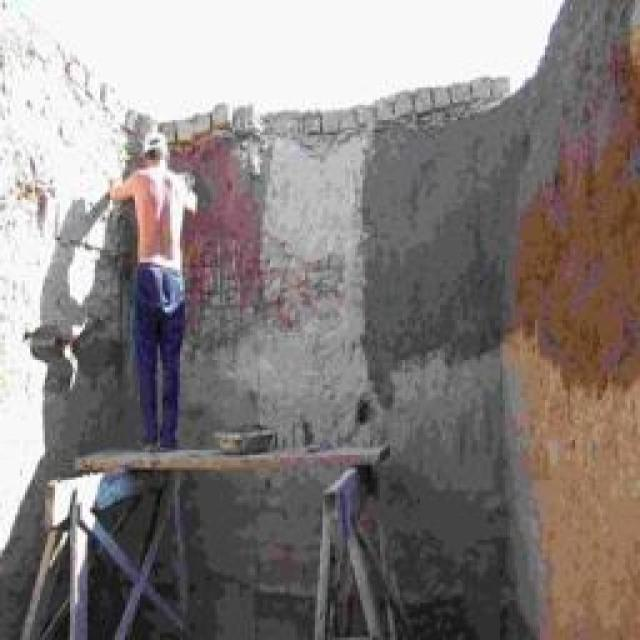Helmet: (76, 156, 214, 306), (127, 110, 195, 177)
